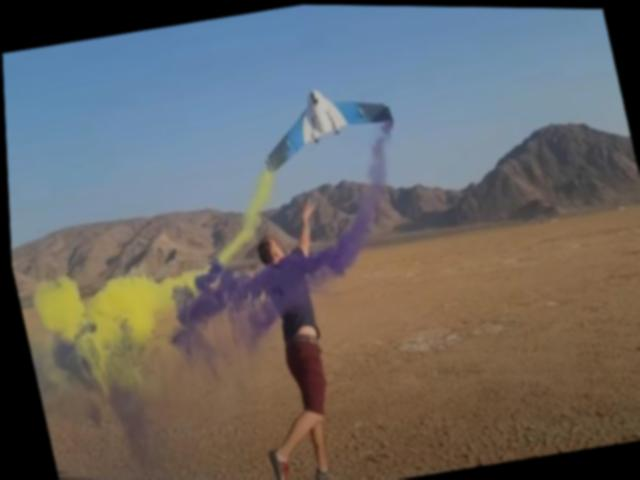iha: (245, 66, 407, 179)
